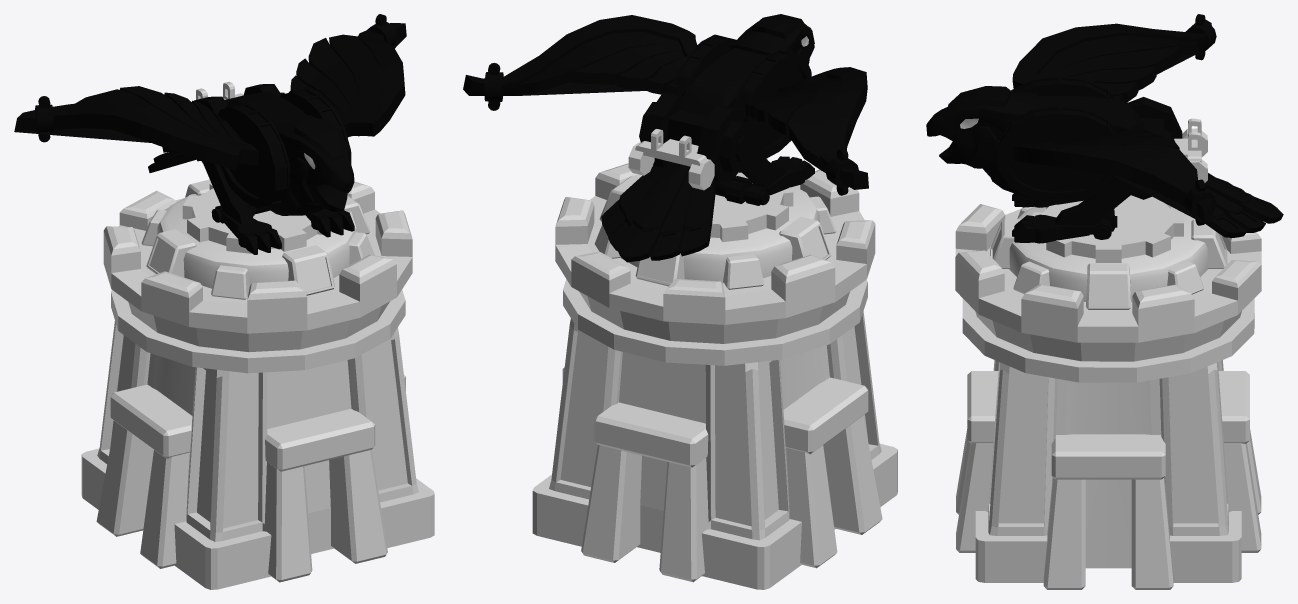
The model's file is MyTower_Crossbow.fbx.
The picture shows the model from 3 angles, left to right: view 1: azimuth 30°, elevation 25°; view 2: azimuth 150°, elevation 25°; view 3: azimuth 270°, elevation 25°; orthographic projection. The views are drawn at different scales.
Parts seen in each view (by area): view 1: LV1, tower_crossbow_head, stand.001; view 2: LV1, tower_crossbow_head, stand.001, shut, emission; view 3: LV1, tower_crossbow_head, stand.001, shut.
Part boxes in pixels (box(x1,y1,x2,y2)): LV1: box(81, 181, 434, 589); tower_crossbow_head: box(14, 14, 406, 254); stand.001: box(141, 179, 374, 299); LV1: box(532, 158, 897, 589); tower_crossbow_head: box(463, 14, 868, 262); stand.001: box(594, 172, 835, 289); shut: box(628, 129, 714, 190); emission: box(632, 141, 706, 189); LV1: box(955, 204, 1261, 589); tower_crossbow_head: box(926, 14, 1283, 243); stand.001: box(990, 195, 1227, 309); shut: box(1174, 118, 1207, 182).
Size of the model in its own units: 1.08 by 1.14 by 0.8489.
